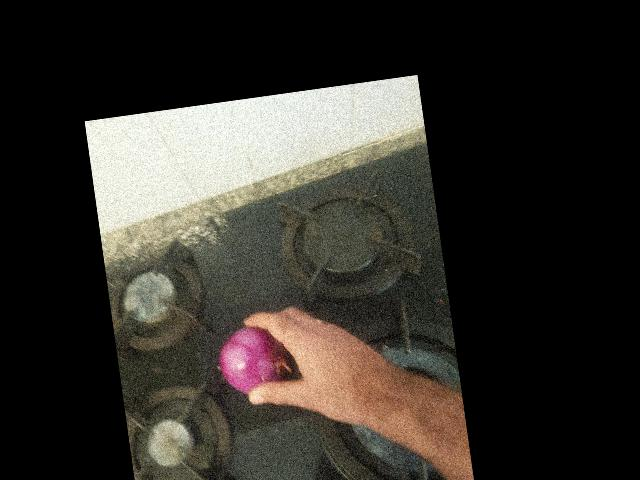onion: (139, 202, 216, 279)
